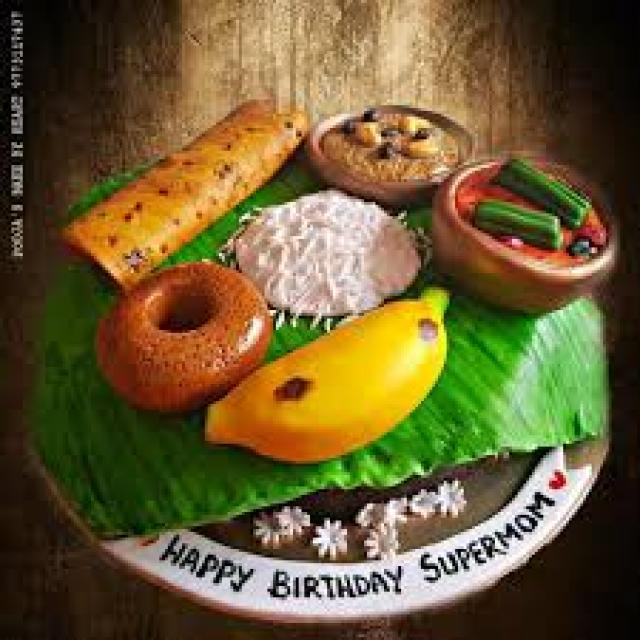dal: (209, 290, 462, 477)
roti: (48, 99, 327, 278)
sweet: (234, 184, 426, 328), (311, 95, 458, 204)
veg-fry: (83, 254, 281, 428), (318, 99, 457, 197)
